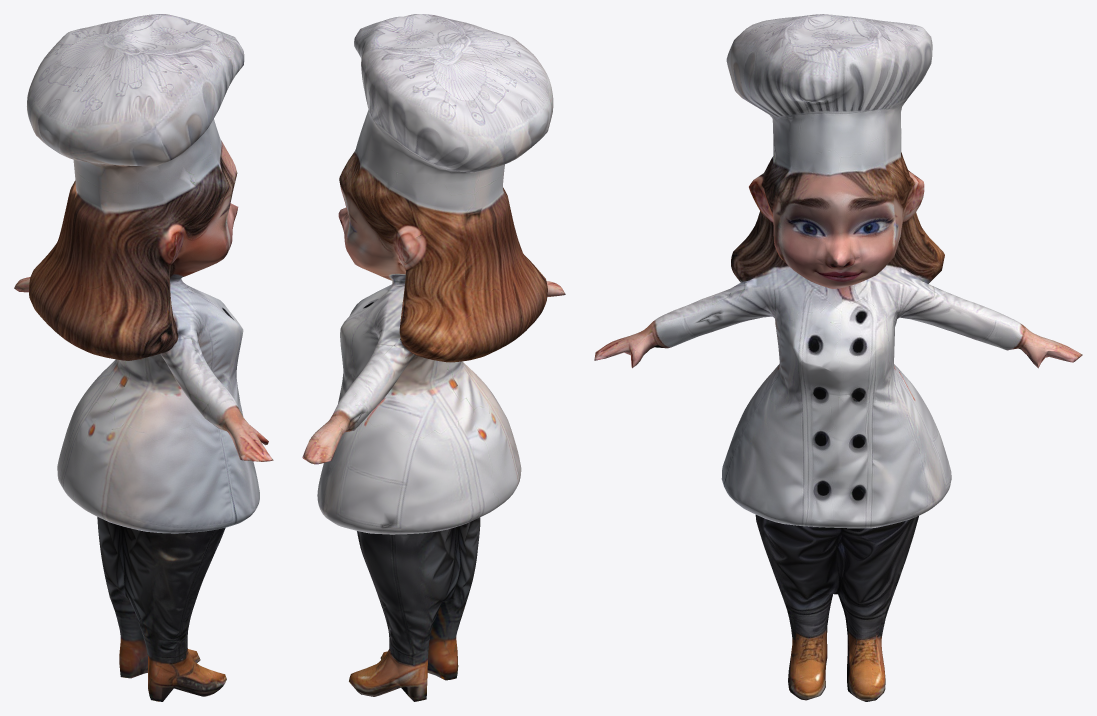
The model's file is pastry chef.glb.
The picture shows the model from 3 angles, left to right: view 1: azimuth 30°, elevation 25°; view 2: azimuth 150°, elevation 25°; view 3: azimuth 270°, elevation 25°; orthographic projection.
Size of the model in its own units: 0.3814 by 1.2 by 0.8147.
1 material, 1 textured.
